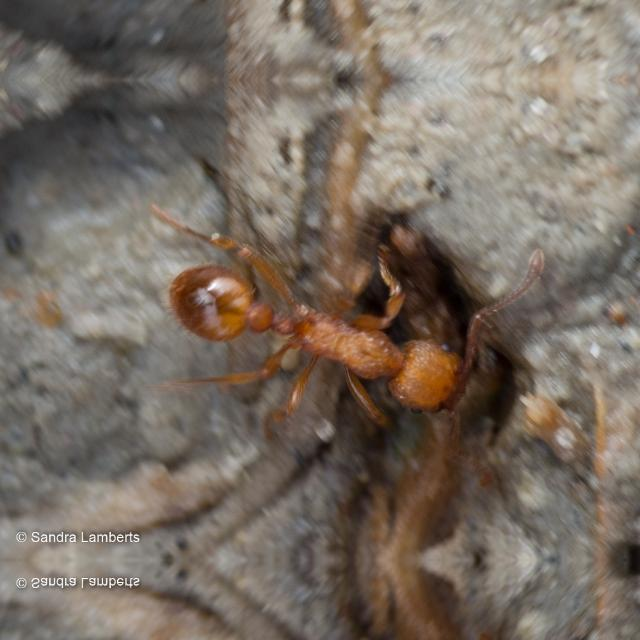Myrmica: (127, 213, 543, 447)
